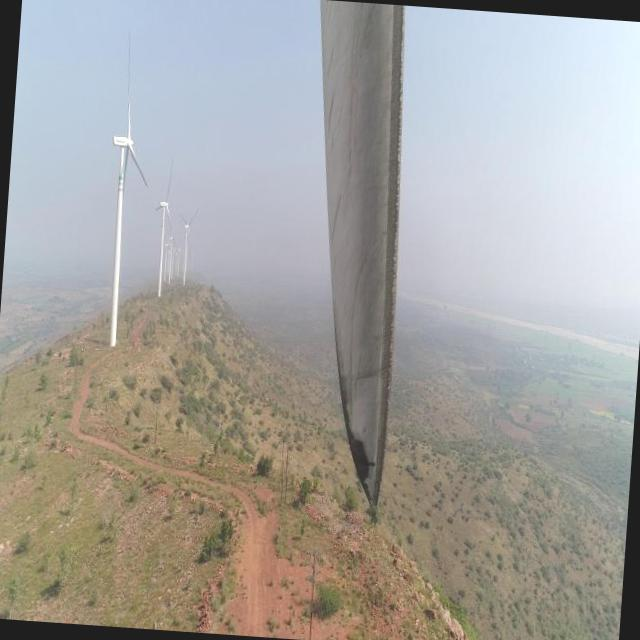Dirt: (317, 0, 401, 500)
Oil LEAKAGE: (334, 362, 376, 506)
Pin Hole: (366, 458, 377, 471)
